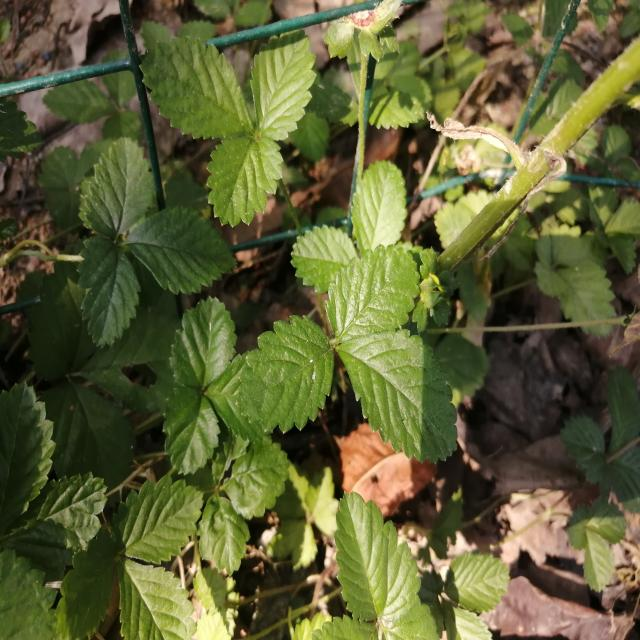Mock_strawberry: (74, 155, 301, 476), (243, 234, 480, 460)
